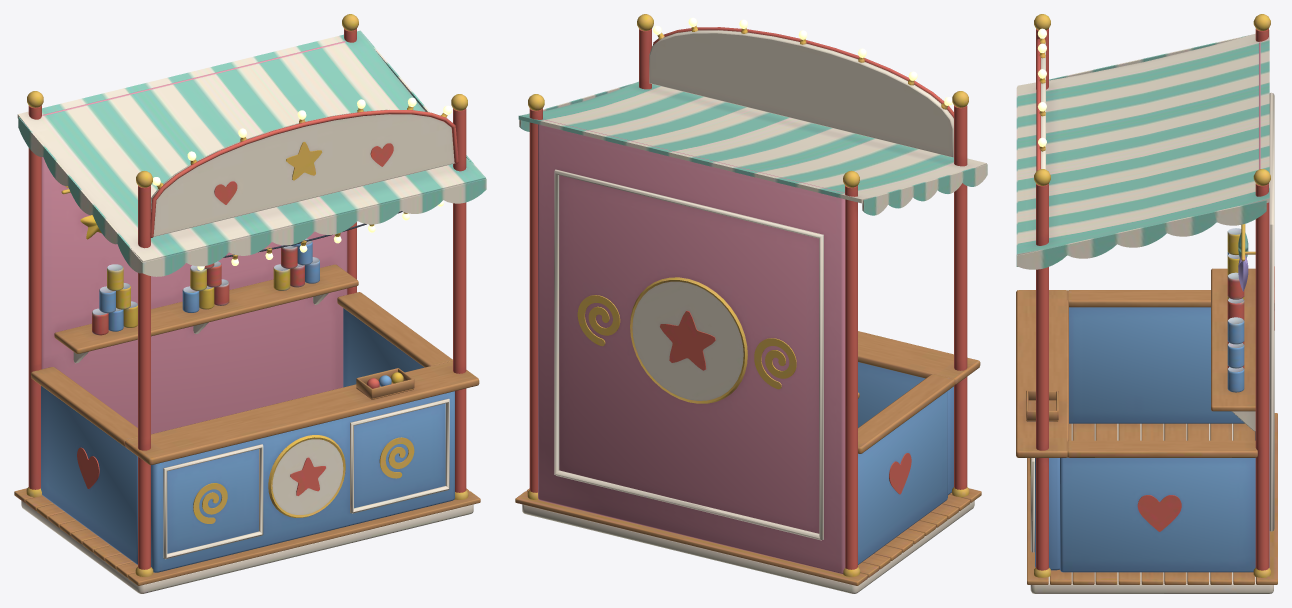
Rendered from carnival-booth.glb.
The picture shows the model from 3 angles, left to right: view 1: azimuth 30°, elevation 25°; view 2: azimuth 150°, elevation 25°; view 3: azimuth 270°, elevation 25°; orthographic projection.
Visible parts, largest first — view 1: carnival-booth_body, carnival-booth_bulbs; view 2: carnival-booth_body; view 3: carnival-booth_body, carnival-booth_bulbs.
Part boxes in pixels (x1,y1,x2,y2): carnival-booth_body: (14,14,486,593); carnival-booth_bulbs: (152,97,452,270); carnival-booth_body: (515,14,987,593); carnival-booth_body: (1016,14,1277,593); carnival-booth_bulbs: (1038,28,1046,146).
Bounding box in the file's own units: 2.73 × 3.34 × 1.79.
2 materials, 1 textured.
